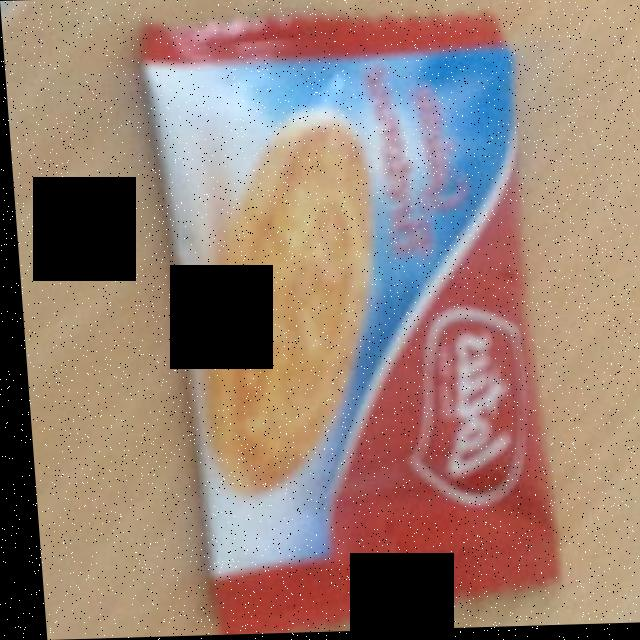biscuits: (206, 122, 371, 495)
